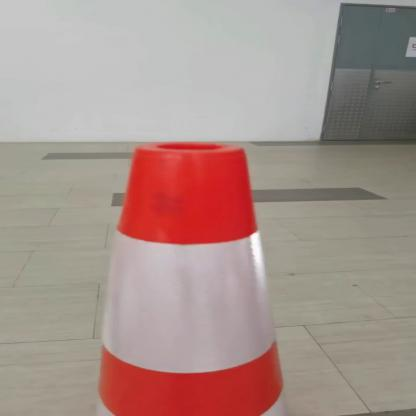cone: (80, 138, 302, 416)
